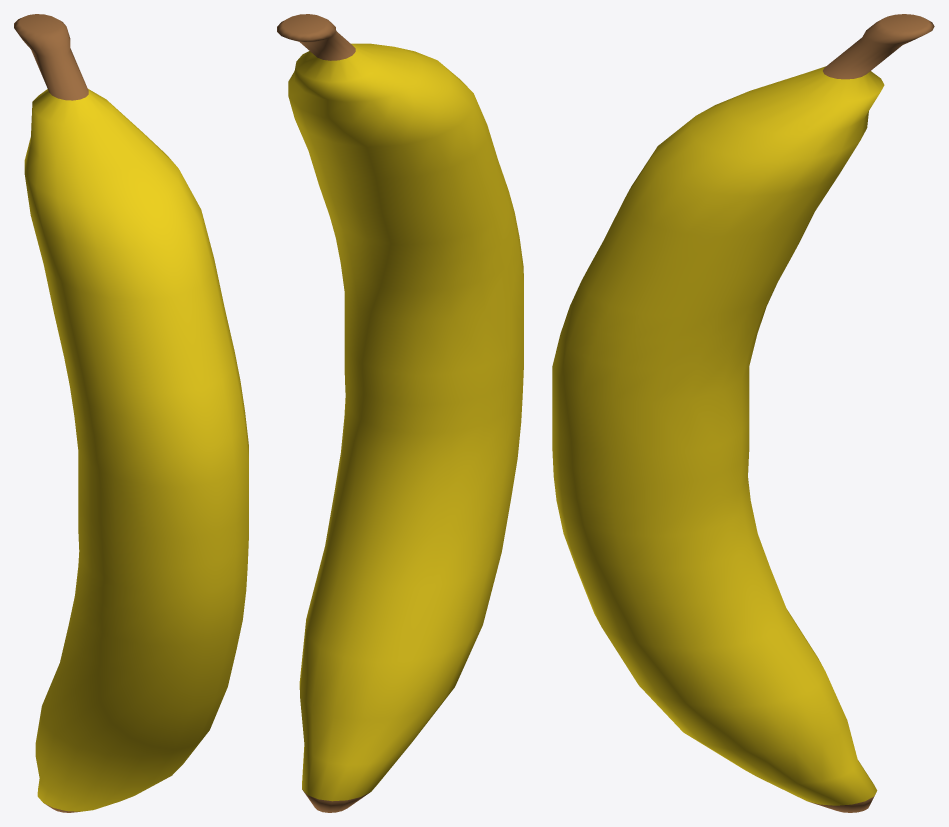
Rendered from banana.fbx.
The picture shows the model from 3 angles, left to right: view 1: azimuth 30°, elevation 25°; view 2: azimuth 150°, elevation 25°; view 3: azimuth 270°, elevation 25°; orthographic projection. The views are drawn at different scales.
Parts seen in each view (by area): view 1: banana; view 2: banana; view 3: banana.
Part boxes in pixels (x1,y1,x2,y2): banana: (14,14,248,812); banana: (277,14,523,812); banana: (552,14,934,812).
Size of the model in its own units: 94.28 by 474 by 210.
